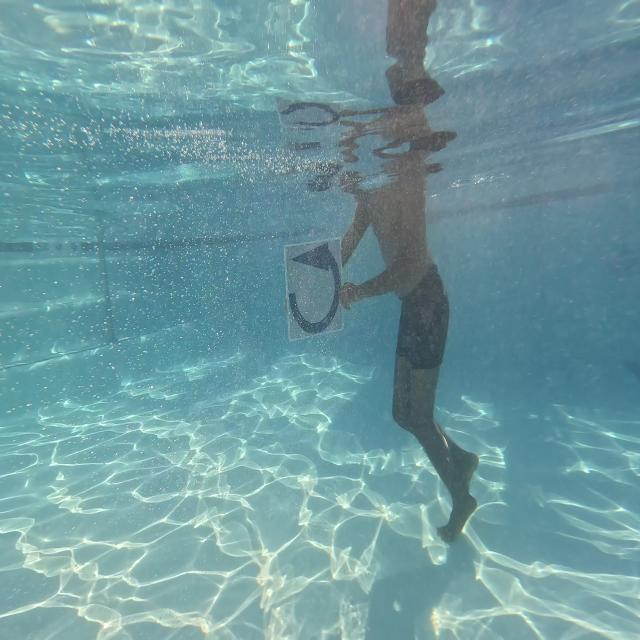blue_side: (283, 234, 343, 337)
